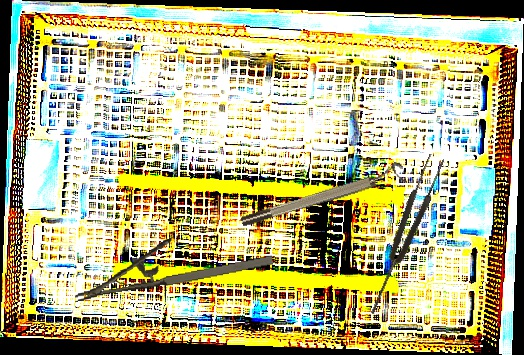Fixation Ring: (237, 160, 408, 230)
Needle Holder: (67, 223, 275, 302)
Tissue Forceps: (361, 152, 448, 318)
